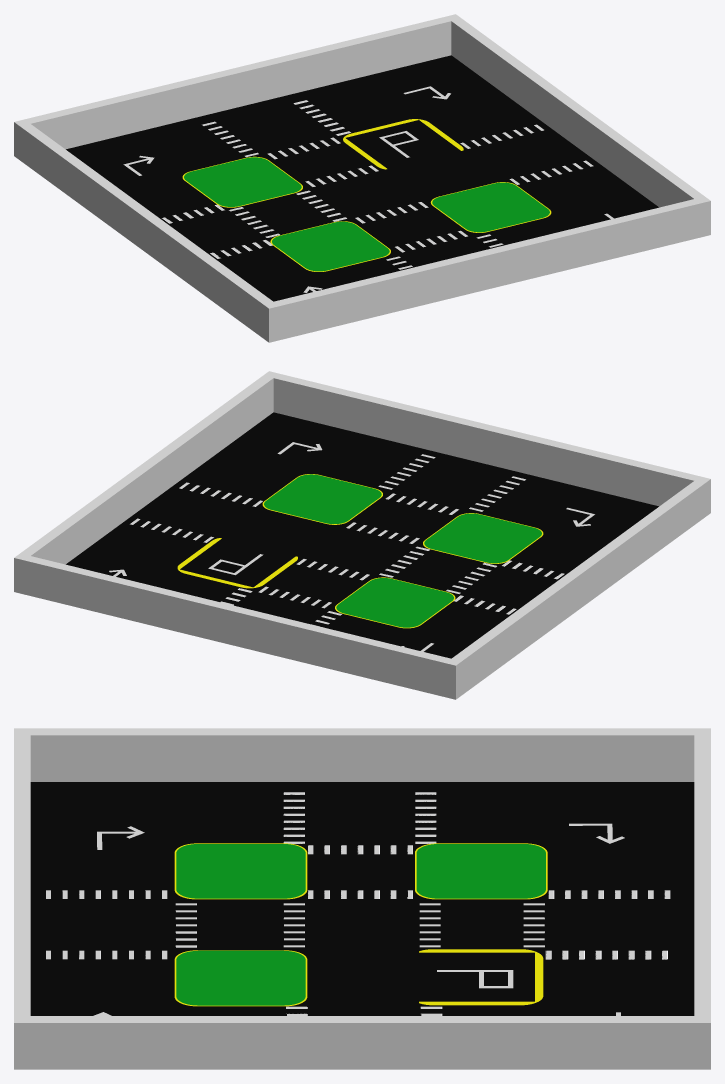
File: track_lab.dae
3 views of the same model, one above another, from view 1: azimuth 30°, elevation 25°; view 2: azimuth 150°, elevation 25°; view 3: azimuth 270°, elevation 25° (orthographic). The views are drawn at different scales.
Visible parts, largest first — view 1: Asphalt, Boirder, Green, Green.001, Green.002, Parking; view 2: Asphalt, Boirder, Green.001, Green, Green.002, Parking; view 3: Asphalt, Boirder, Green.002, Green, Green.001, Parking.
Part boxes in pixels (box(x1,y1,x2,y2)): Asphalt: box(66, 55, 658, 301); Boirder: box(14, 14, 710, 342); Green: box(430, 182, 551, 232); Green.001: box(182, 156, 302, 207); Green.002: box(270, 221, 390, 271); Parking: box(343, 119, 463, 169); Asphalt: box(66, 412, 658, 658); Boirder: box(14, 371, 710, 699); Green.001: box(335, 577, 455, 628); Green: box(262, 474, 382, 524); Green.002: box(423, 513, 543, 563); Parking: box(177, 538, 297, 588); Asphalt: box(30, 782, 694, 1015); Boirder: box(14, 728, 710, 1069); Green.002: box(174, 843, 307, 899); Green: box(174, 950, 307, 1006); Green.001: box(415, 843, 547, 899); Parking: box(419, 949, 543, 1005).
Bounding box in the file's own units: 4.2 × 4.2 × 0.31.
